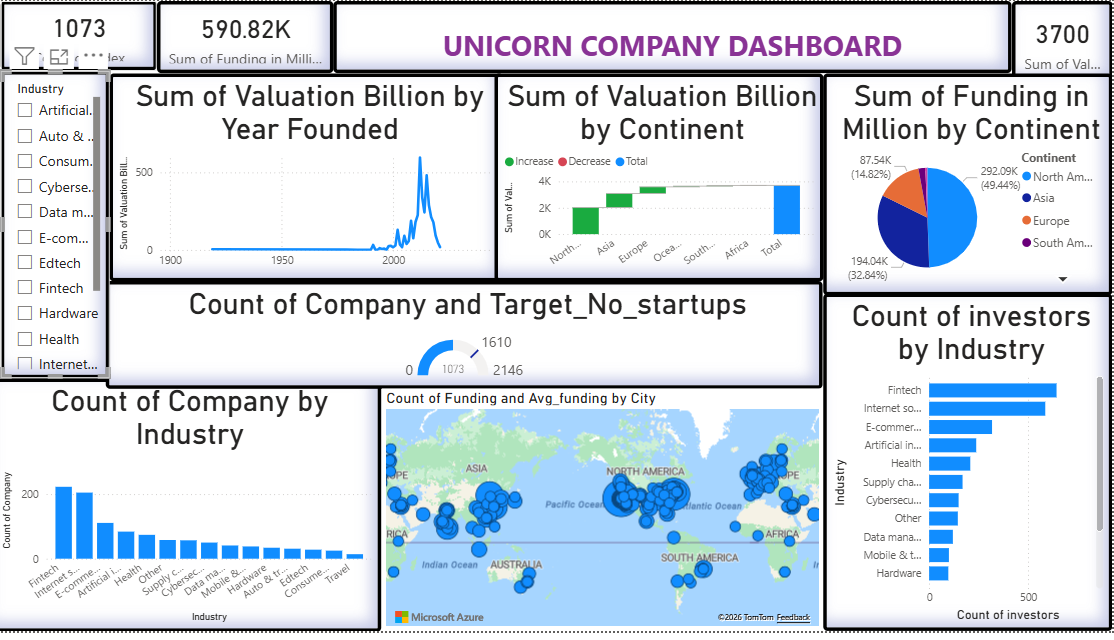

The page's visual inventory and layout, read from the dashboard file:
{"tool":"powerbi","page":{"name":"final_reports","canvas":[1280,720],"ordinal":0},"visuals":[{"type":"textbox","box":[389.7,0,775.3,82.3],"z":0},{"type":"card","fields":{"Values":["CountNonNull(Unicorn_Companies.Index)"]},"box":[9.6,0,178.4,79.6],"z":1000},{"type":"card","fields":{"Values":["Sum(Funding.Funding in Million)"]},"box":[188,0,201.7,82.3],"z":2000},{"type":"card","fields":{"Values":["Sum(Unicorn_Companies.Valuation Billion)"]},"box":[1165,0,115.3,93.3],"z":3000},{"type":"clusteredColumnChart","fields":{"Category":["Unicorn_Companies.Industry"],"Y":["CountNonNull(Unicorn_Companies.Company)"]},"box":[0,430.9,444.6,289.5],"z":4000},{"type":"gauge","fields":{"Y":["CountNonNull(Unicorn_Companies.Company)"],"TargetValue":["Unicorn_Companies.Target_No_startups"]},"box":[130.4,319.7,819.2,123.5],"z":5000},{"type":"lineChart","fields":{"Y":["Sum(Unicorn_Companies.Valuation Billion)"],"Category":["Unicorn_Companies.Year Founded"]},"box":[134.5,82.3,450.1,237.4],"z":6000},{"type":"pieChart","fields":{"Category":["Unicorn_Companies.Continent"],"Y":["Sum(Funding.Funding in Million)"]},"box":[949.6,82.3,330.7,253.9],"z":7000},{"type":"clusteredBarChart","fields":{"Y":["CountNonNull(inverstors.investors)"],"Category":["Unicorn_Companies.Industry"]},"box":[949.6,334.8,330.7,385.6],"z":8000},{"type":"waterfallChart","fields":{"Y":["Sum(Unicorn_Companies.Valuation Billion)"],"Category":["Unicorn_Companies.Continent"]},"box":[573.6,82.3,376,237.4],"z":9000},{"type":"slicer","fields":{"Values":["Unicorn_Companies.Industry"]},"box":[10,80,124.3,351.4],"z":10000},{"type":"azureMap","fields":{"Category":["Unicorn_Companies.City"],"Size":["CountNonNull(Unicorn_Companies.Funding)"]},"box":[445,443,504,277],"z":11000}]}

Visuals, with their boxes in screenshot pixels (x1, y1, x2, y2), scaled from the page's 1280x720 canvas onto the 1114x640 screenshot:
textbox: (339, 0, 1014, 73)
card - CountNonNull(Unicorn_Companies.Index): (8, 0, 164, 71)
card - Sum(Funding.Funding in Million): (164, 0, 339, 73)
card - Sum(Unicorn_Companies.Valuation Billion): (1014, 0, 1113, 83)
clusteredColumnChart - Unicorn_Companies.Industry x CountNonNull(Unicorn_Companies.Company): (0, 383, 387, 639)
gauge - CountNonNull(Unicorn_Companies.Company) x Unicorn_Companies.Target_No_startups: (113, 284, 826, 394)
lineChart - Sum(Unicorn_Companies.Valuation Billion) x Unicorn_Companies.Year Founded: (117, 73, 509, 284)
pieChart - Unicorn_Companies.Continent x Sum(Funding.Funding in Million): (826, 73, 1113, 299)
clusteredBarChart - CountNonNull(inverstors.investors) x Unicorn_Companies.Industry: (826, 298, 1113, 639)
waterfallChart - Sum(Unicorn_Companies.Valuation Billion) x Unicorn_Companies.Continent: (499, 73, 826, 284)
slicer - Unicorn_Companies.Industry: (9, 71, 117, 383)
azureMap - Unicorn_Companies.City x CountNonNull(Unicorn_Companies.Funding): (387, 394, 826, 639)
